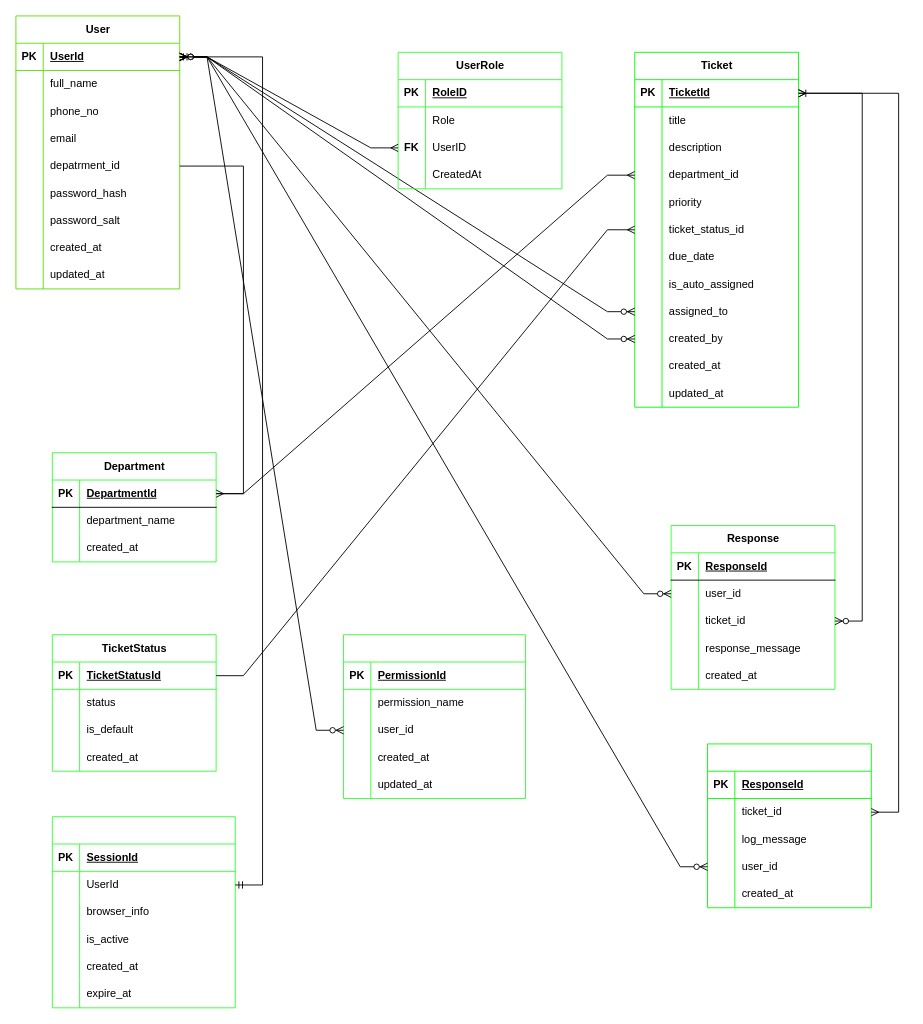
Some shapes in this 923 by 1024 pixel diagram are drawn without their labels. The box of each missing label's shape, as (x1, y1, x2, y2) in pixels:
AccesPermission: (343, 634, 526, 799)
TicketLogs: (707, 743, 871, 908)
UserSession: (51, 816, 235, 1008)
